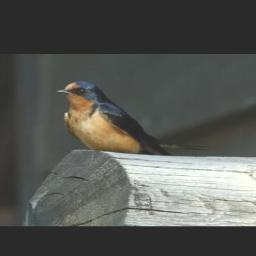Swallow: (55, 80, 213, 155)
